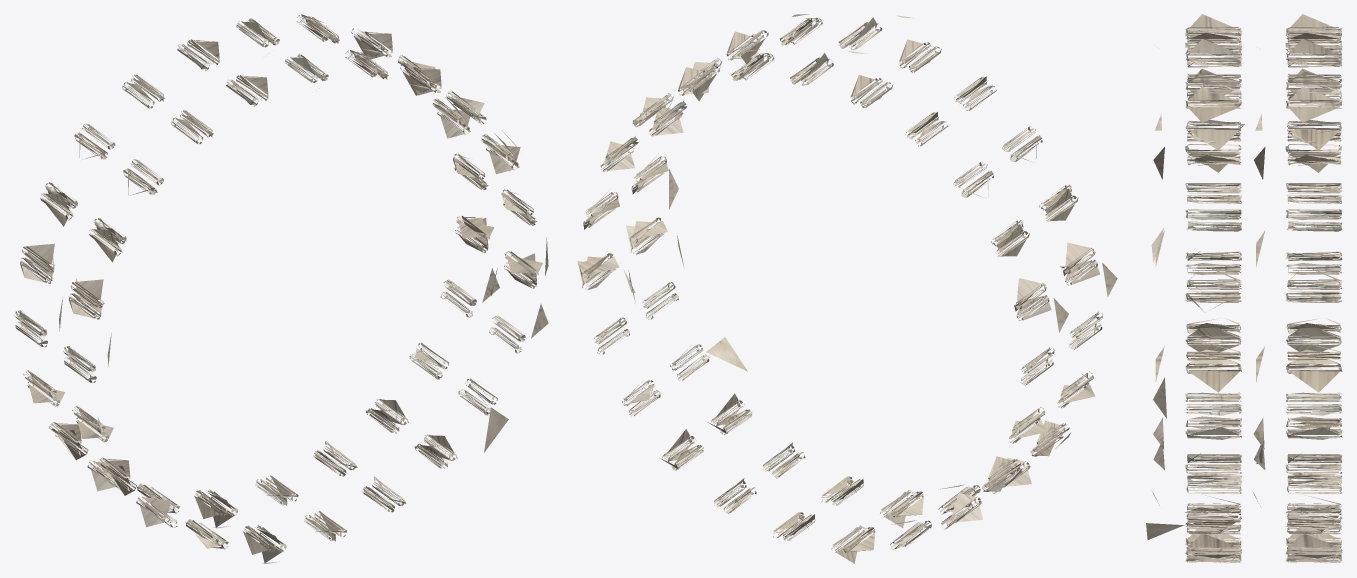
The model's file is colosseum_arch_ring_lanagre.glb.
3 views of the same model, side by side, from view 1: azimuth 30°, elevation 25°; view 2: azimuth 150°, elevation 25°; view 3: azimuth 270°, elevation 25° (orthographic). The views are drawn at different scales.
Parts seen in each view (by area): view 1: Object_2; view 2: Object_2; view 3: Object_2.
Part boxes in pixels (x1,y1,x2,y2): Object_2: (14,14,548,563); Object_2: (577,14,1117,563); Object_2: (1146,14,1342,563).
Bounding box in the file's own units: 256 × 262 × 90.55.
1 material, 1 textured.
